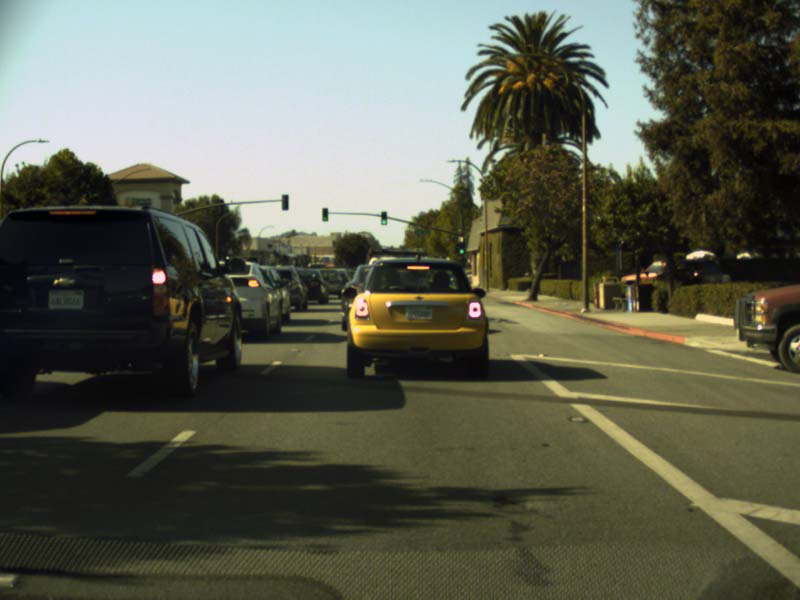Green: (321, 207, 328, 220), (381, 211, 387, 224), (458, 246, 464, 254)
Yellow: (457, 235, 464, 242)
